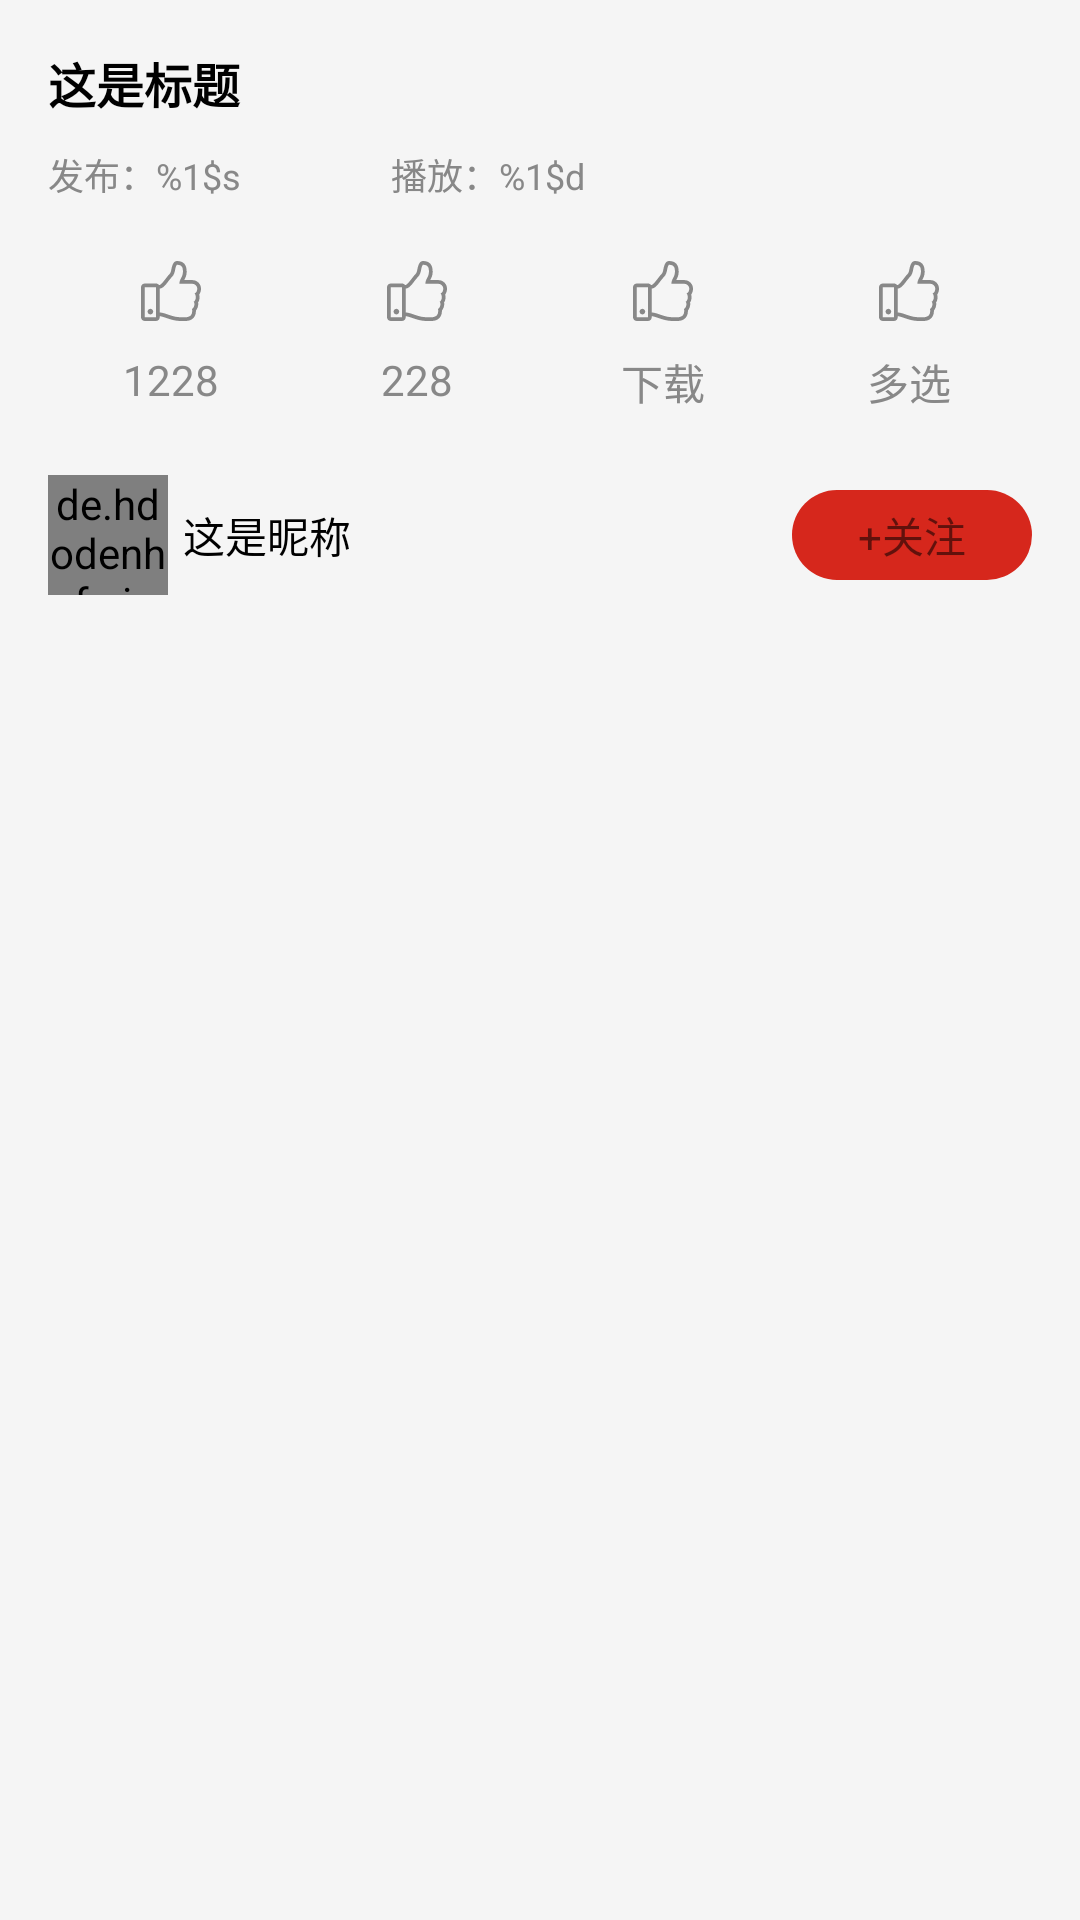

Screen size 1080×1920. Icon name, then its center in pixels as (x=x, y=y):
thumb: (x=171, y=291), (x=417, y=291), (x=663, y=291), (x=909, y=291)
